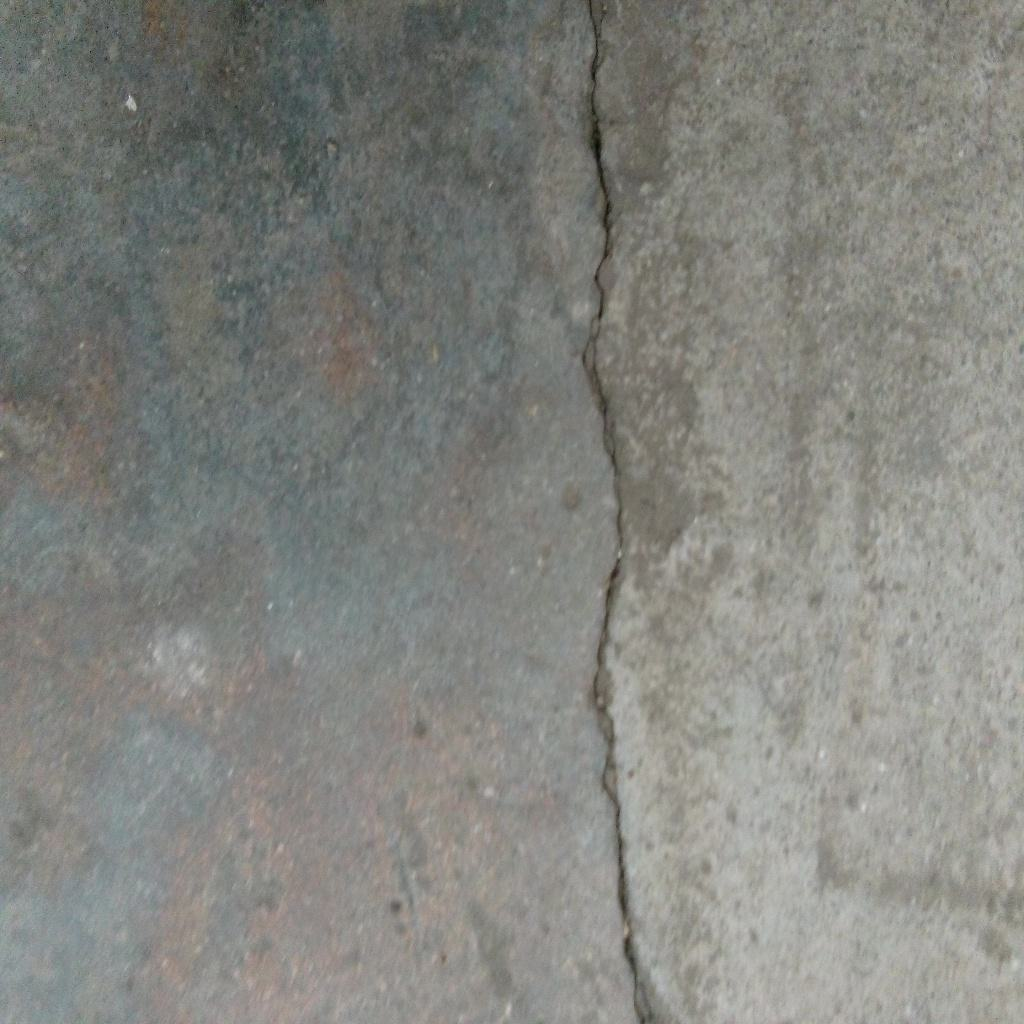Crack: (580, 1, 659, 1024)
